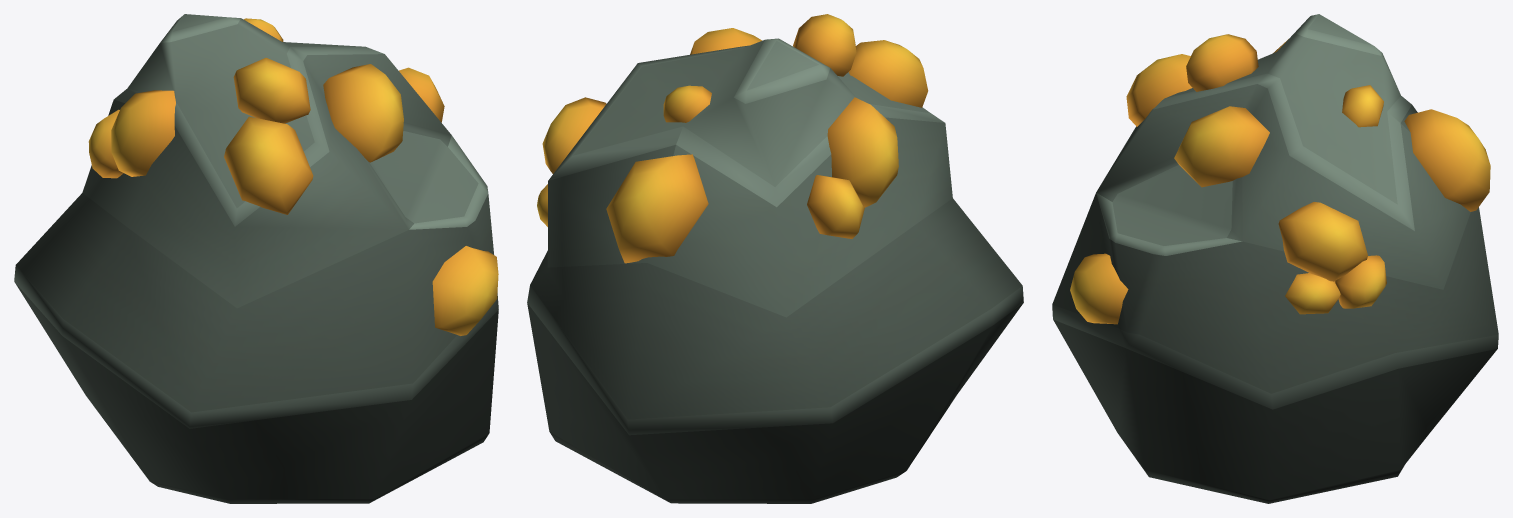
File: ore_nuggets_gold_L.fbx
3 renders of one model, left to right at view 1: azimuth 30°, elevation 25°; view 2: azimuth 150°, elevation 25°; view 3: azimuth 270°, elevation 25°, orthographic. The views are drawn at different scales.
Parts seen in each view (by area): view 1: ore_nuggets_gold_L; view 2: ore_nuggets_gold_L; view 3: ore_nuggets_gold_L.
Boxes of the visible parts, box(x1,y1,x2,y2) form: ore_nuggets_gold_L: box(14, 14, 498, 503); ore_nuggets_gold_L: box(527, 14, 1023, 503); ore_nuggets_gold_L: box(1052, 14, 1498, 503).
Size of the model in its own units: 211 by 220 by 204.
1 material, 1 textured.
